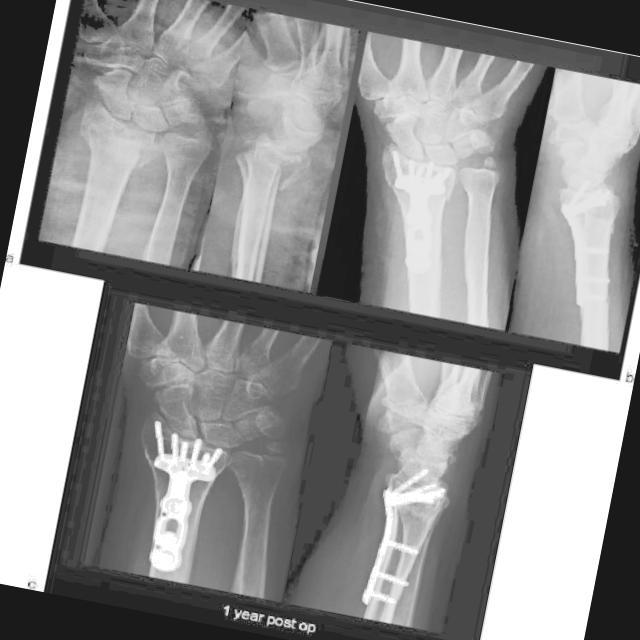Intra-articular fracture: (247, 414, 292, 482), (463, 140, 502, 199)
